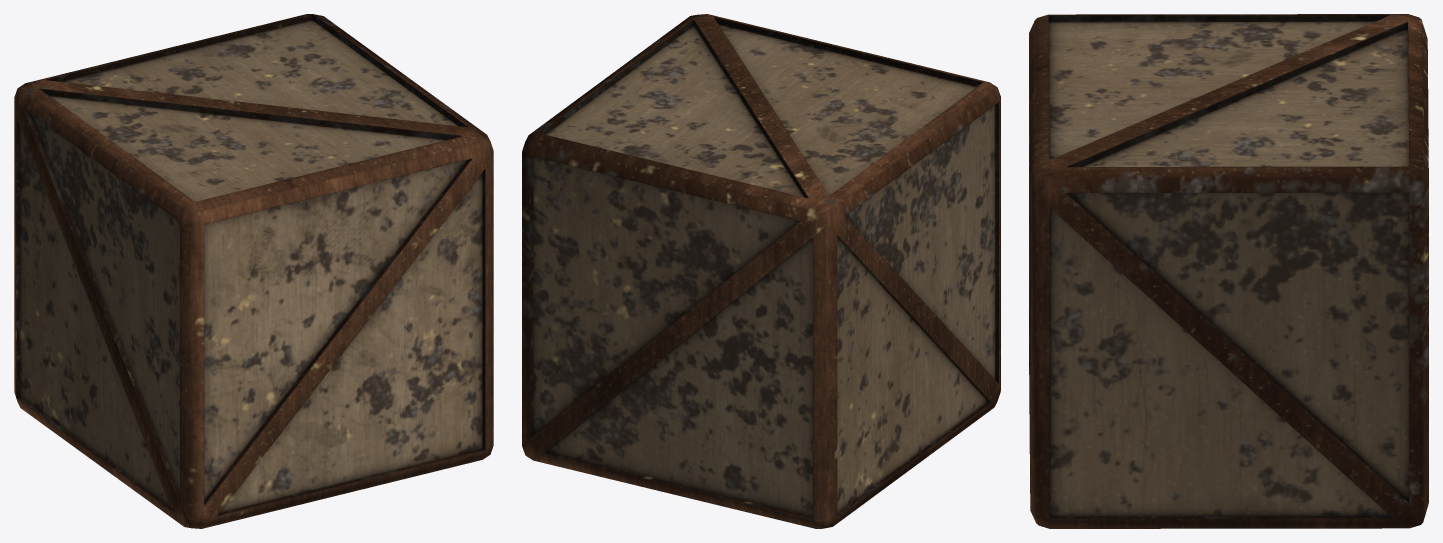
Rendered from WoodBox.fbx.
The picture shows the model from 3 angles, left to right: view 1: azimuth 30°, elevation 25°; view 2: azimuth 150°, elevation 25°; view 3: azimuth 270°, elevation 25°; orthographic projection. The views are drawn at different scales.
Parts seen in each view (by area): view 1: WoodenBox; view 2: WoodenBox; view 3: WoodenBox.
Part boxes in pixels (box(x1,y1,x2,y2)): WoodenBox: box(14, 14, 493, 528); WoodenBox: box(522, 14, 1000, 528); WoodenBox: box(1029, 14, 1428, 528).
Bounding box in the file's own units: 108 × 108 × 107.
1 material, 1 textured.
